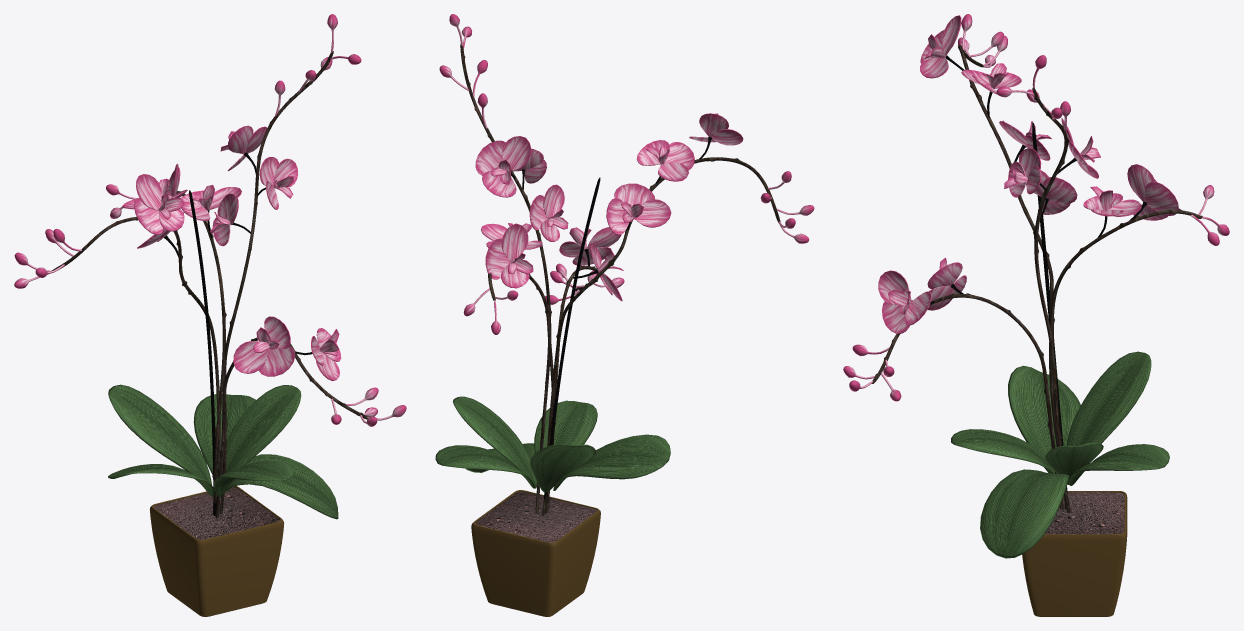
File: pink.obj
The picture shows the model from 3 angles, left to right: view 1: azimuth 30°, elevation 25°; view 2: azimuth 150°, elevation 25°; view 3: azimuth 270°, elevation 25°; orthographic projection. The views are drawn at different scales.
Visible parts, largest first — view 1: Arch41_053_obj_3, Arch41_053_obj_6, archmodels66_033_003, Arch41_053_obj_5, archmodels66_033_004, Arch41_053_obj_7, Arch41_053_obj_4, Arch41_053_obj_8; view 2: Arch41_053_obj_6, Arch41_053_obj_3, archmodels66_033_003, Arch41_053_obj_5, archmodels66_033_004, Arch41_053_obj_7, Arch41_053_obj_4, Arch41_053_obj_8; view 3: Arch41_053_obj_3, Arch41_053_obj_6, archmodels66_033_003, Arch41_053_obj_5, Arch41_053_obj_7, archmodels66_033_004, Arch41_053_obj_4, Arch41_053_obj_8, Arch41_053_obj_9.
Boxes of the visible parts, x1,y1,x2,y2 form: Arch41_053_obj_3: (108,384,338,519); Arch41_053_obj_6: (122,125,341,380); archmodels66_033_003: (149,486,284,616); Arch41_053_obj_5: (51,51,367,518); archmodels66_033_004: (153,487,279,539); Arch41_053_obj_7: (14,14,406,426); Arch41_053_obj_4: (213,460,294,496); Arch41_053_obj_8: (189,190,216,515); Arch41_053_obj_6: (475,113,743,301); Arch41_053_obj_3: (435,396,670,492); archmodels66_033_003: (471,490,600,616); Arch41_053_obj_5: (460,44,780,515); archmodels66_033_004: (475,491,596,542); Arch41_053_obj_7: (439,14,814,334); Arch41_053_obj_4: (534,400,597,453); Arch41_053_obj_8: (543,177,600,514); Arch41_053_obj_3: (980,351,1169,558); Arch41_053_obj_6: (878,15,1178,333); archmodels66_033_003: (1022,491,1127,616); Arch41_053_obj_5: (871,45,1202,512); Arch41_053_obj_7: (843,14,1229,401); archmodels66_033_004: (1045,492,1124,534); Arch41_053_obj_4: (951,429,1053,473); Arch41_053_obj_8: (1032,123,1067,509); Arch41_053_obj_9: (912,55,1146,303).
Bounding box in the file's own units: 4.58 × 7.08 × 4.15.
Materials: 6 (5 with a texture image).
